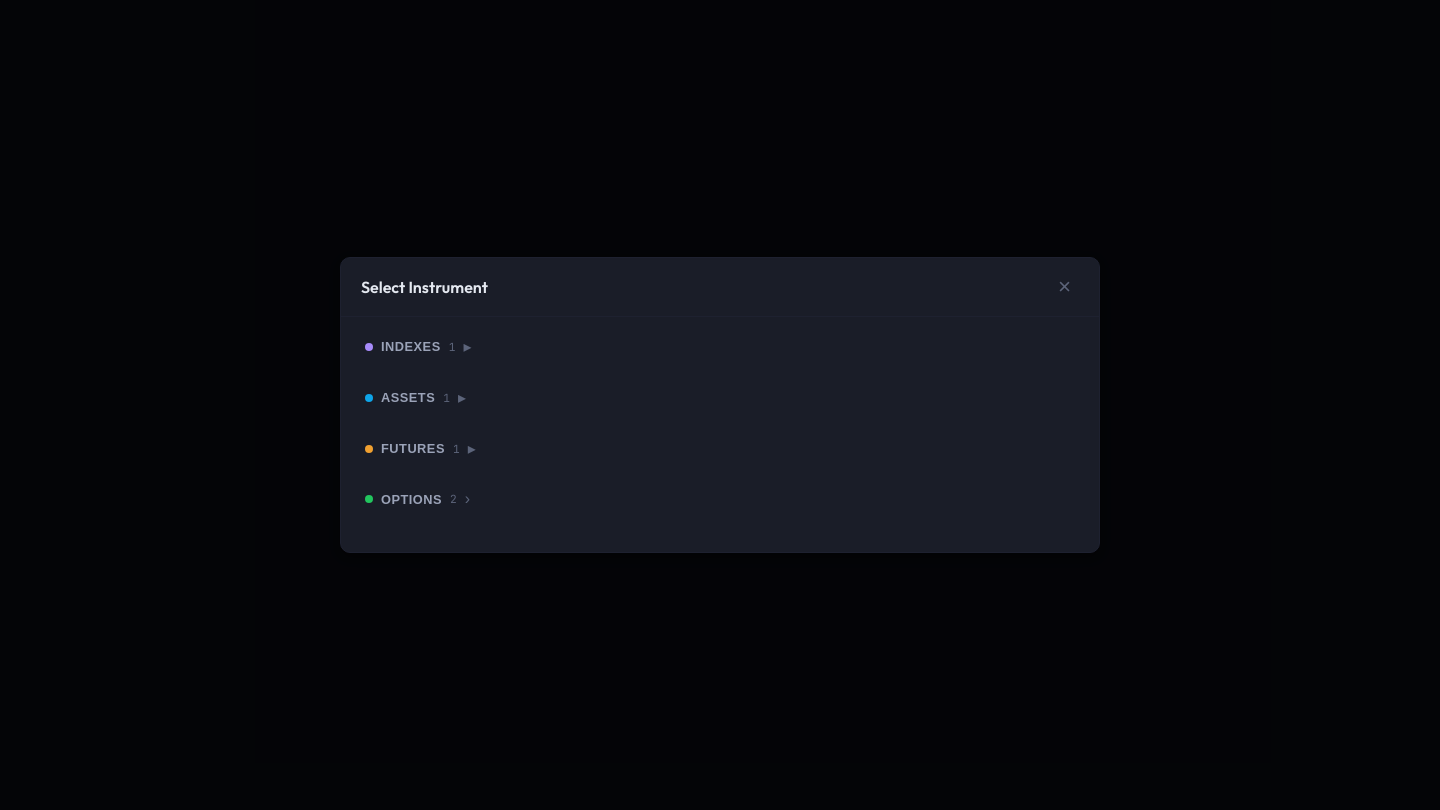
Test case: <InstrumentPickerModal> › clicking Options enters drill-down and shows the OptionStreamForm
Expected: the text "Indexes" is shown, [381, 339, 441, 354]
Expected: the text "Options" is shown, [381, 492, 442, 507]
Click the button with test id "picker-options-toggle" at (412, 499), box [361, 482, 1079, 516]
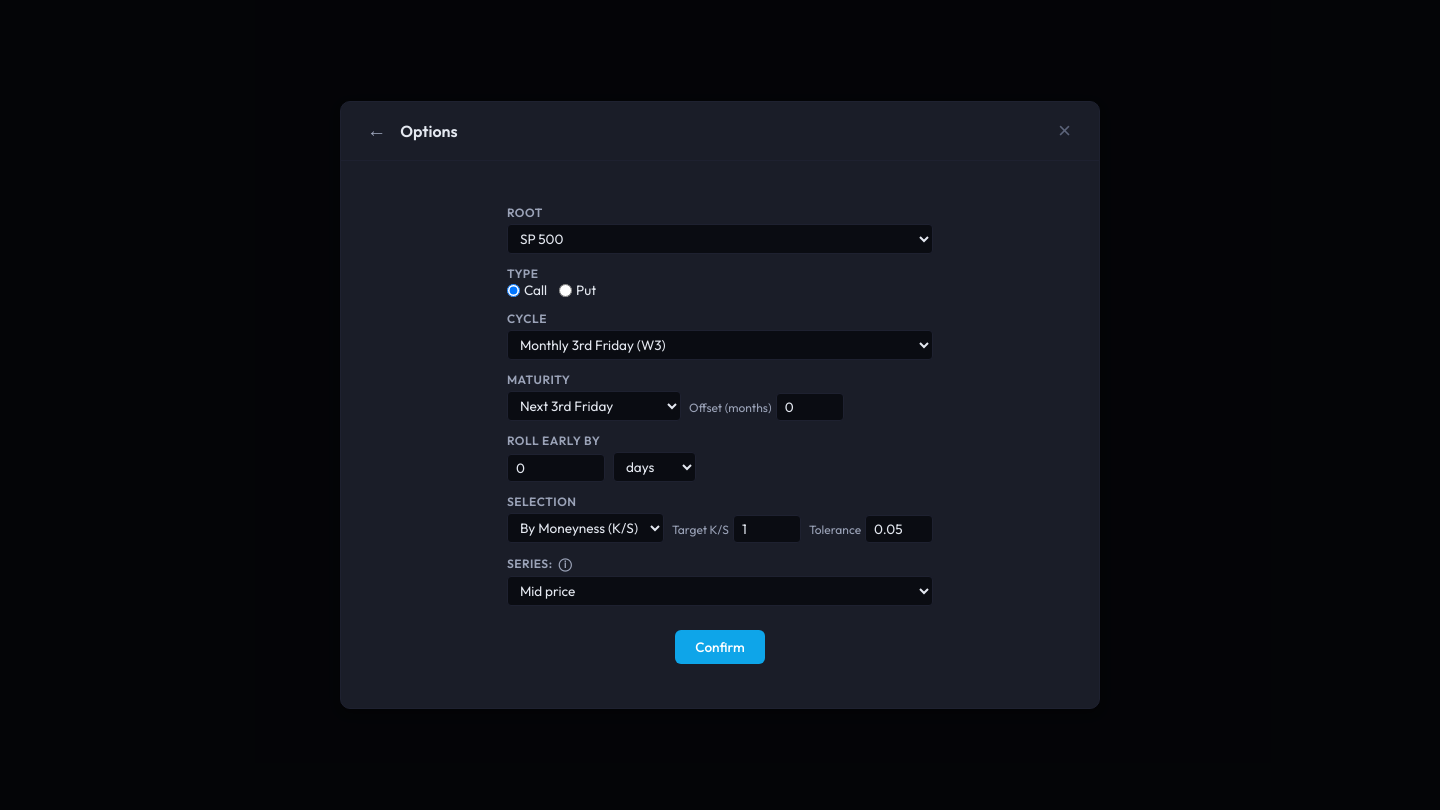
Expected: the element with test id "option-stream-form" is shown, [507, 197, 933, 614]
Expected: the dropdown labelled "Root" is shown, [507, 224, 933, 254]
Expected: the button with test id "option-stream-confirm" is shown, [675, 630, 765, 664]
